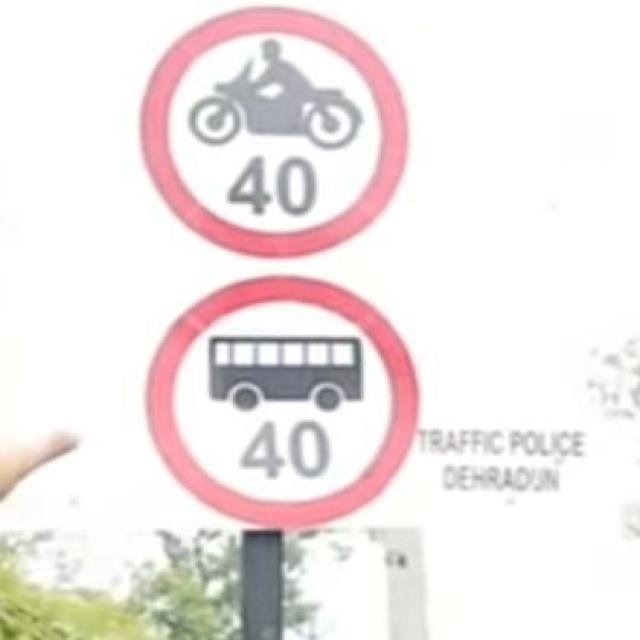speedlimit_40: (129, 23, 425, 266), (144, 291, 427, 545)
